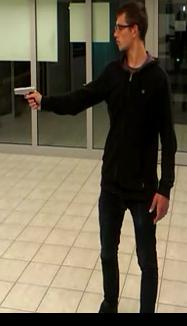pistol: (13, 84, 39, 111)
